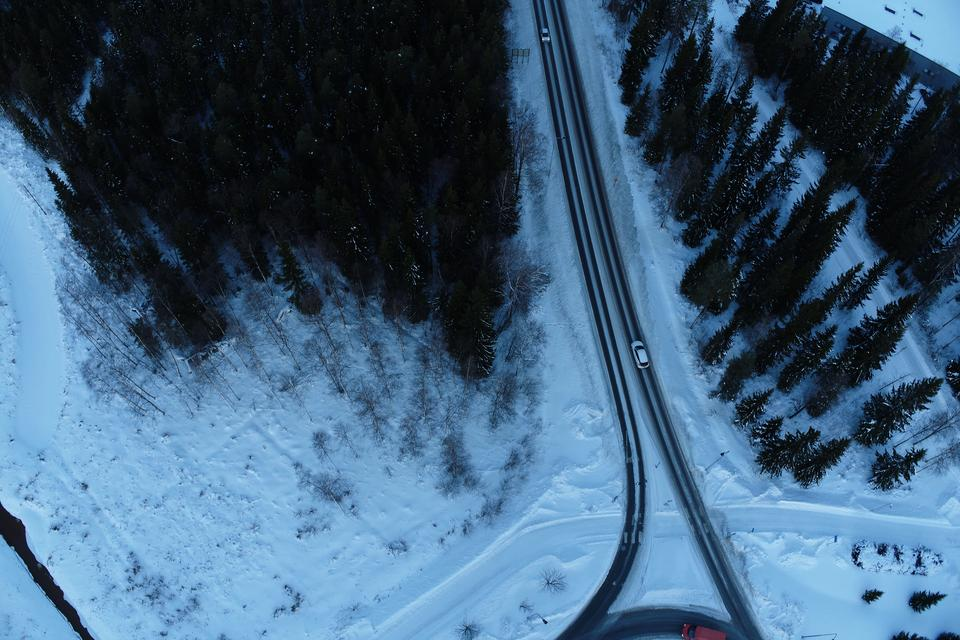intersection: (576, 487, 752, 551)
roundabout: (504, 573, 817, 640)
